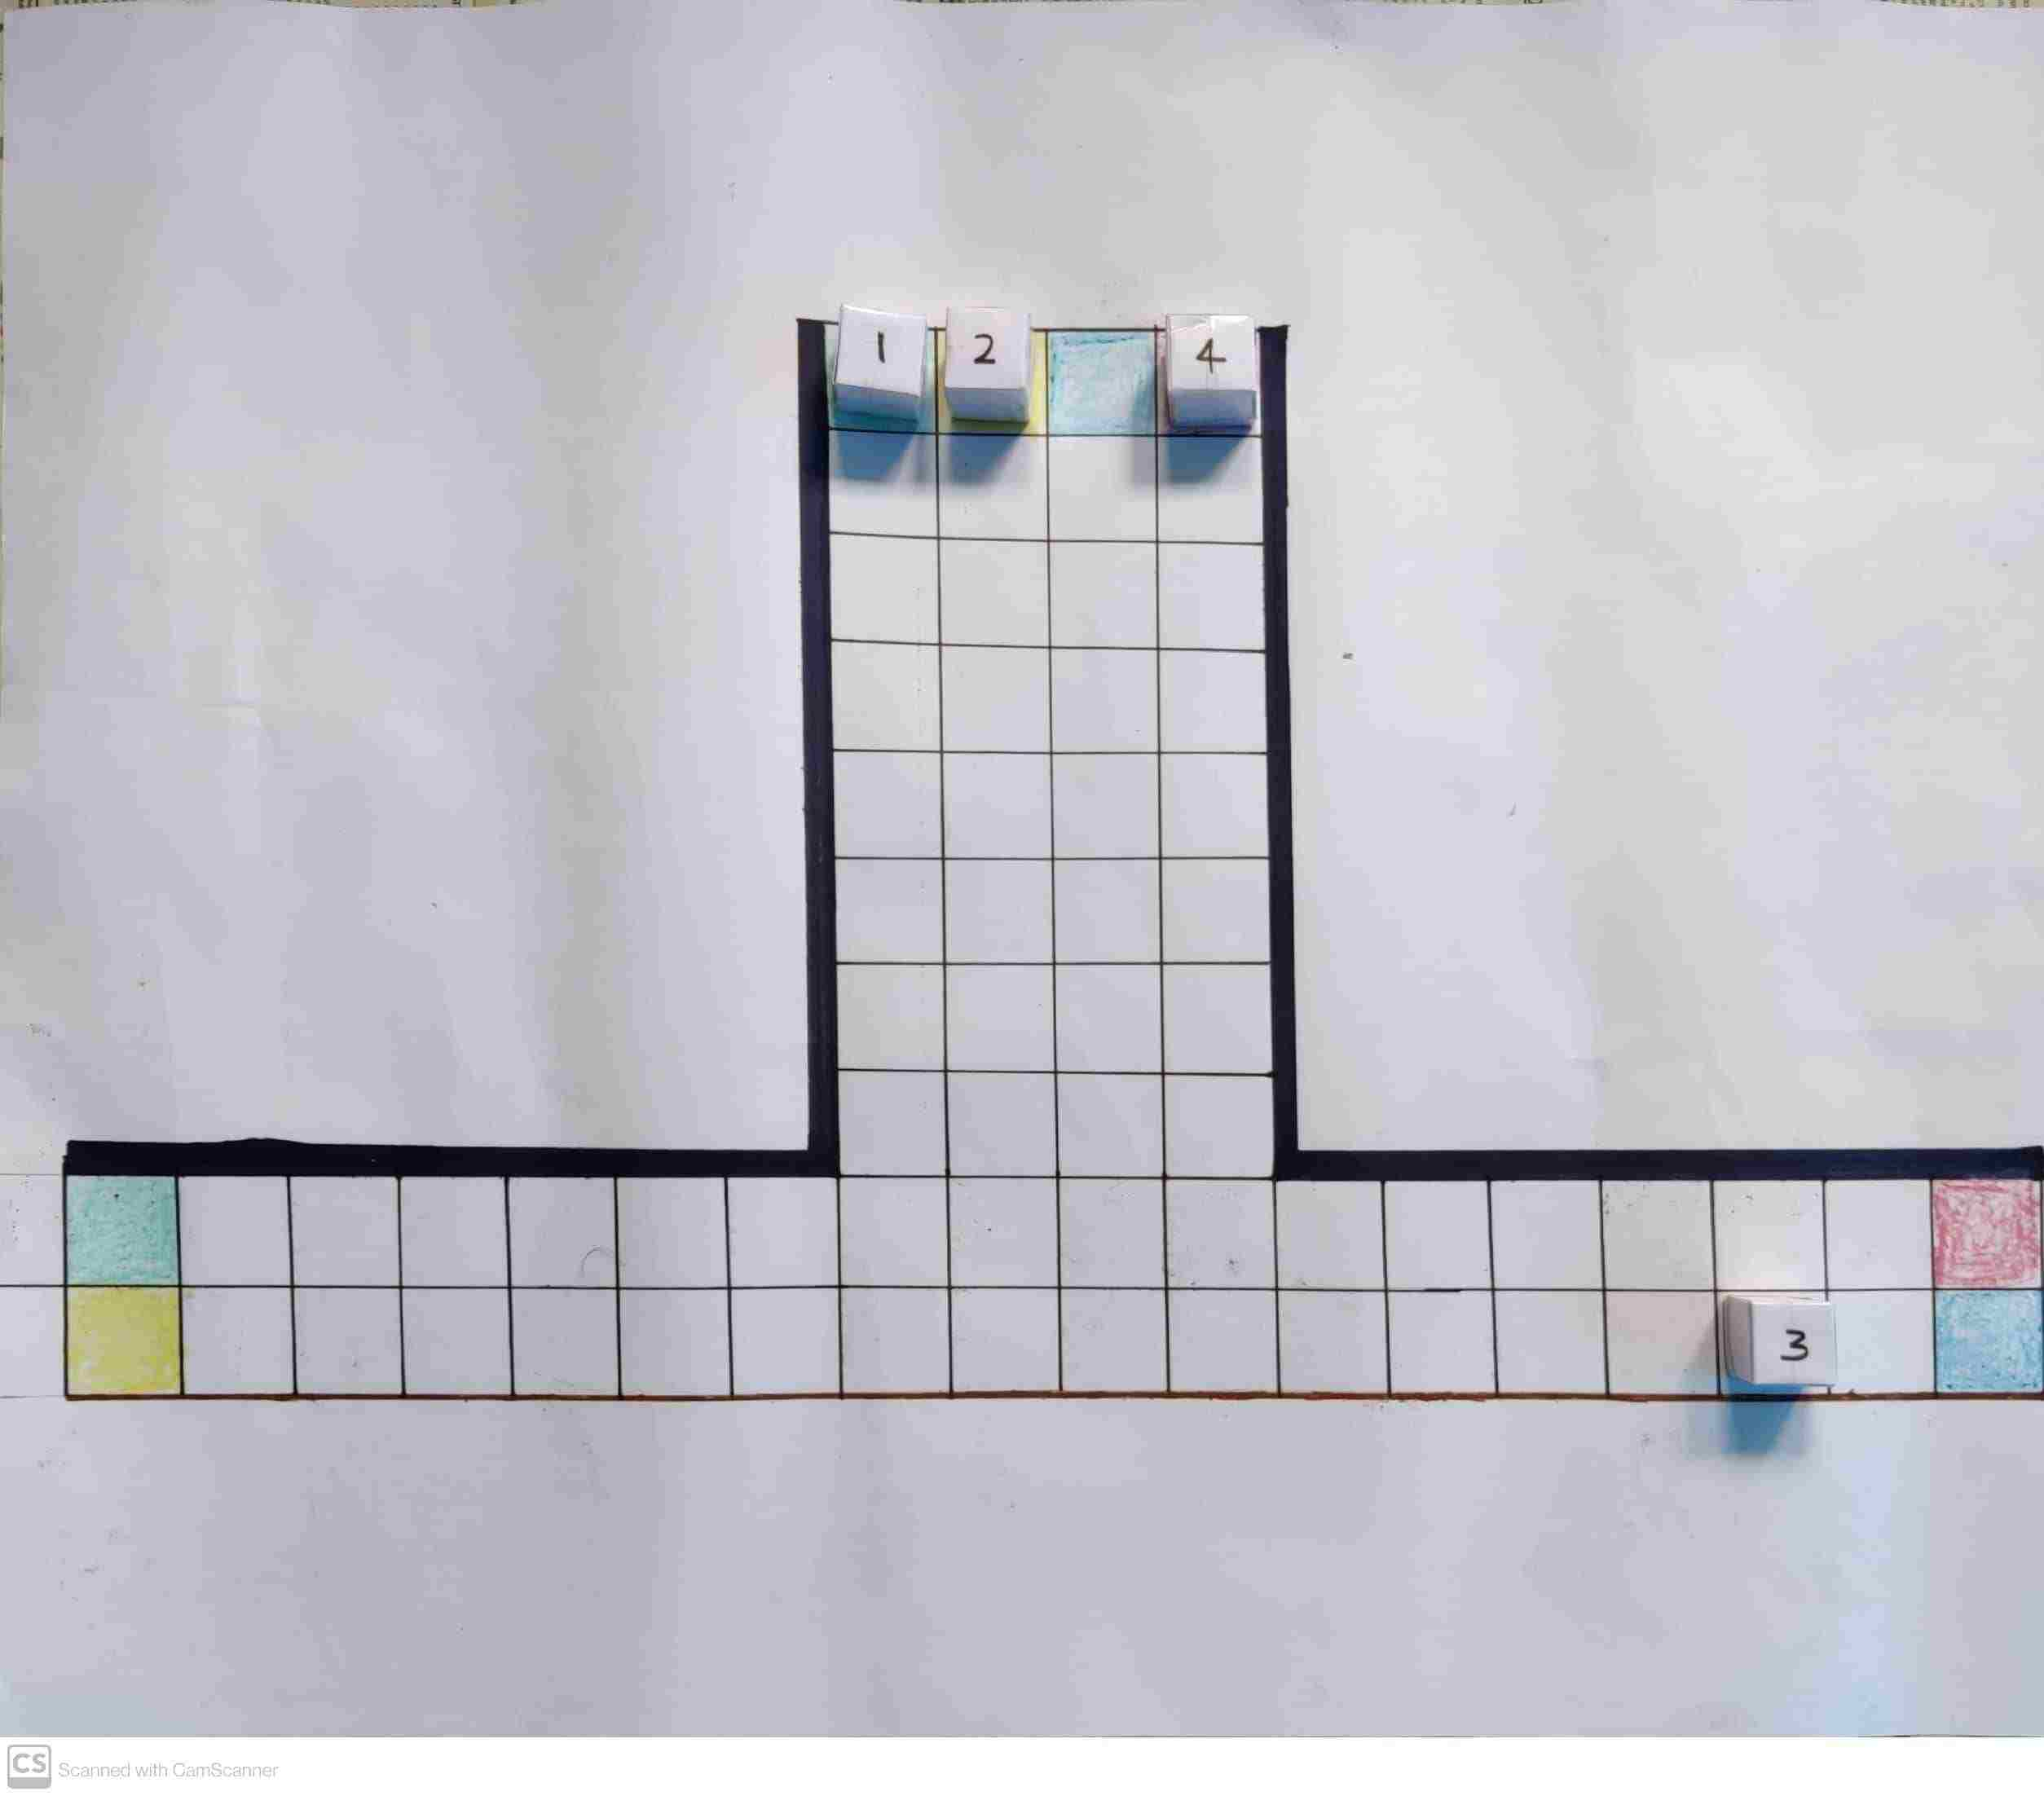arena: (63, 322, 2044, 1405)
bot: (838, 309, 930, 395), (1754, 1302, 1835, 1387), (1168, 322, 1258, 389), (951, 318, 1025, 389)
